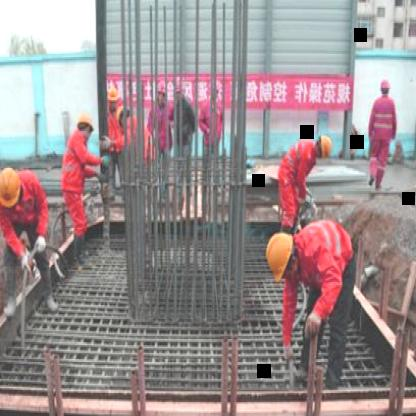helmet: (264, 231, 298, 282), (0, 166, 25, 220), (312, 129, 336, 159), (76, 108, 96, 142), (104, 83, 120, 113), (172, 72, 188, 102), (378, 72, 392, 98), (116, 100, 130, 126), (155, 79, 167, 103)
